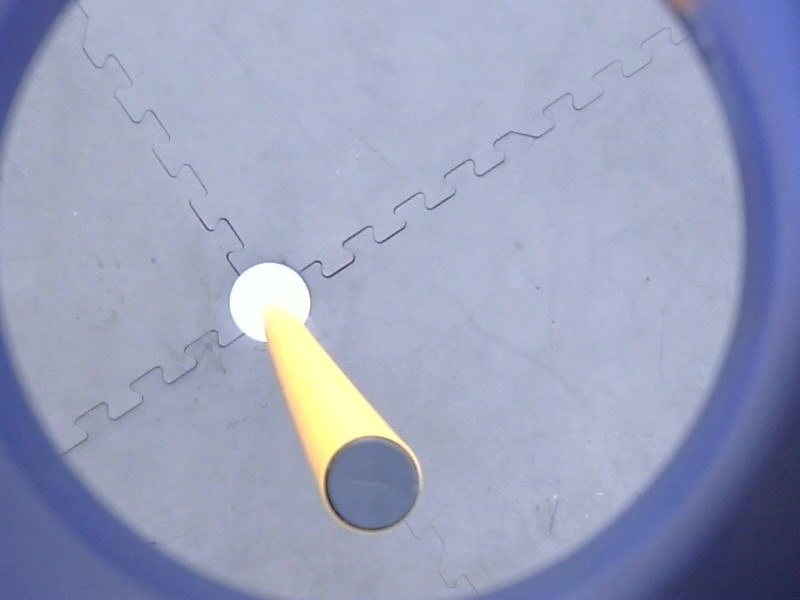tip: (318, 429, 426, 538)
